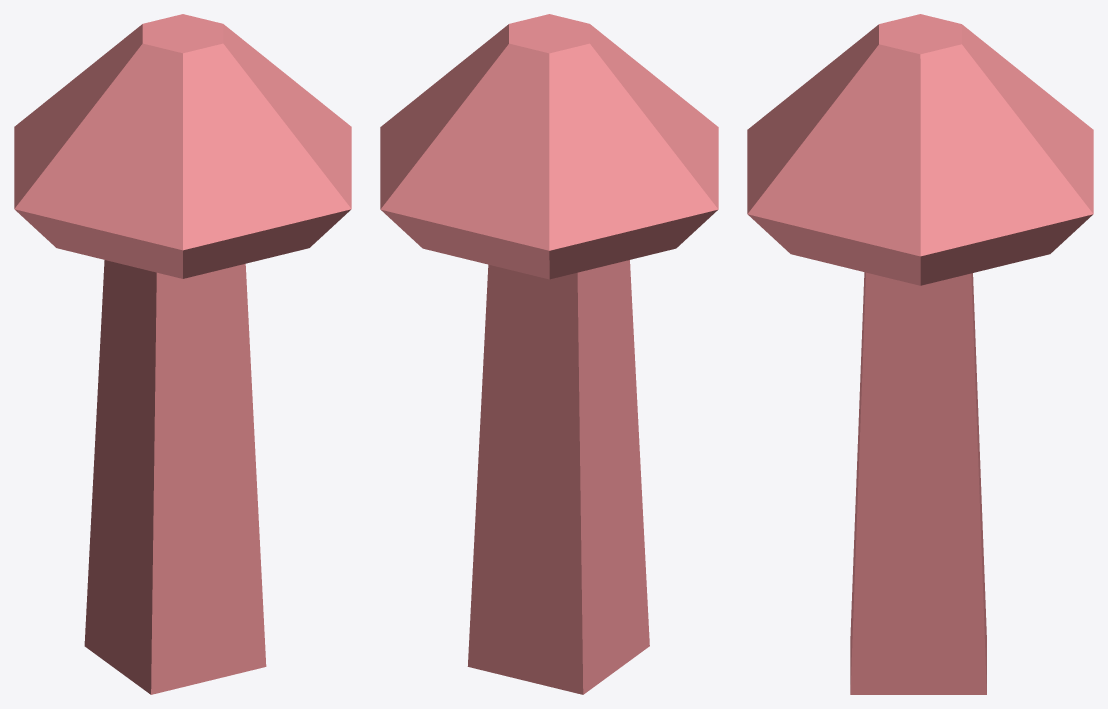
File: mushroom_redTall.fbx
3 renders of one model, left to right at view 1: azimuth 30°, elevation 25°; view 2: azimuth 150°, elevation 25°; view 3: azimuth 270°, elevation 25°, orthographic. The views are drawn at different scales.
Visible parts, largest first — view 1: mushroom_redTall; view 2: mushroom_redTall; view 3: mushroom_redTall.
Part boxes in pixels (x1,y1,x2,y2): mushroom_redTall: [14, 14, 351, 694]; mushroom_redTall: [380, 14, 718, 694]; mushroom_redTall: [747, 14, 1093, 694].
Size of the model in its own units: 42.79 by 75.15 by 37.06.
